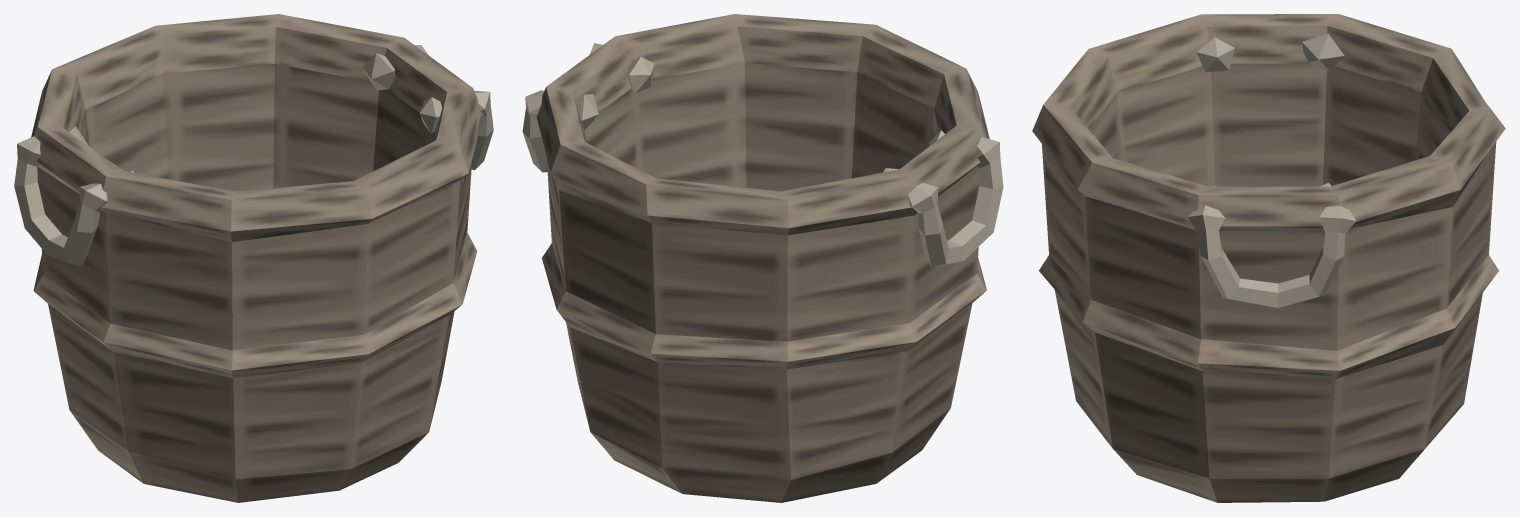
The model's file is ancient_SM_Prop_Basket_01.gltf.
3 renders of one model, left to right at view 1: azimuth 30°, elevation 25°; view 2: azimuth 150°, elevation 25°; view 3: azimuth 270°, elevation 25°, orthographic.
Parts seen in each view (by area): view 1: SM_Prop_Basket_01; view 2: SM_Prop_Basket_01; view 3: SM_Prop_Basket_01.
Part boxes in pixels (x1,y1,x2,y2): SM_Prop_Basket_01: (14, 14, 493, 502); SM_Prop_Basket_01: (522, 14, 1003, 502); SM_Prop_Basket_01: (1032, 14, 1505, 502).
Size of the model in its own units: 0.593 by 0.444 by 0.5747.
Materials: 1 (1 with a texture image).
